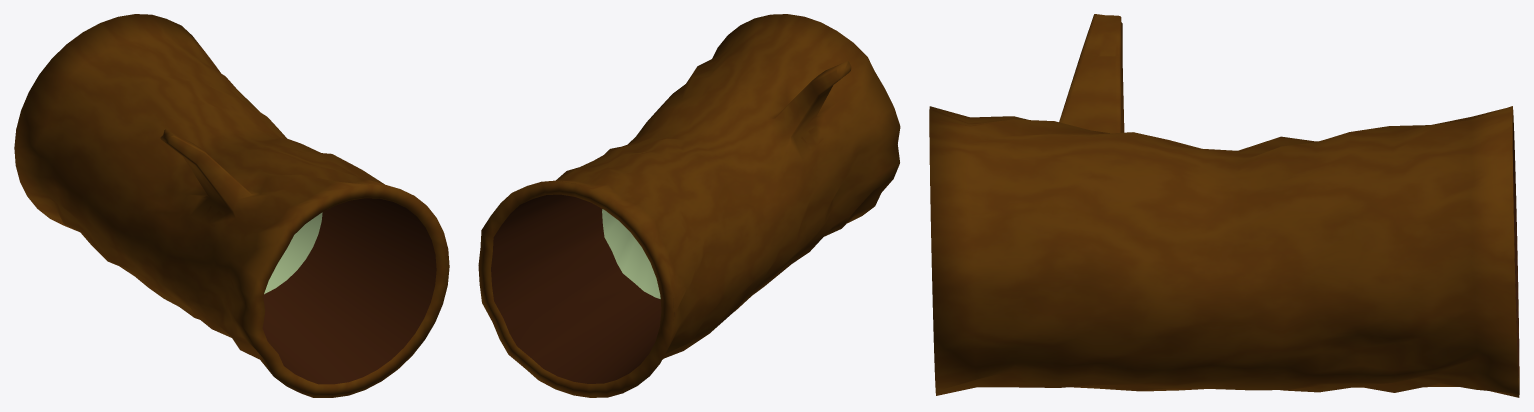
File: supaljpanj1.fbx
3 renders of one model, left to right at view 1: azimuth 30°, elevation 25°; view 2: azimuth 150°, elevation 25°; view 3: azimuth 270°, elevation 25°, orthographic. The views are drawn at different scales.
Parts seen in each view (by area): view 1: suplje1; view 2: suplje1; view 3: suplje1.
Part boxes in pixels (left/top/right/bottom): suplje1: left=14, top=14, right=449, bottom=397; suplje1: left=478, top=14, right=900, bottom=397; suplje1: left=929, top=14, right=1519, bottom=397.
Bounding box in the file's own units: 101 × 109 × 191.
Materials: 3 (1 with a texture image).
